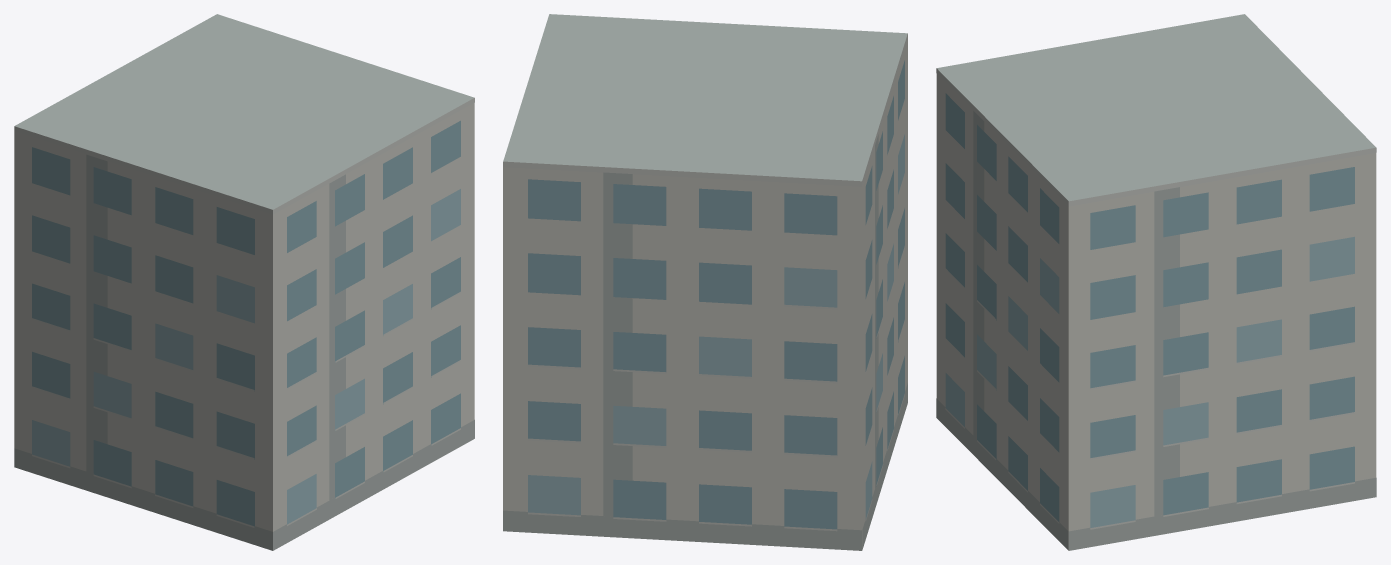
The model's file is survey-upis-32994729.glb.
3 views of the same model, side by side, from view 1: azimuth 30°, elevation 25°; view 2: azimuth 150°, elevation 25°; view 3: azimuth 270°, elevation 25° (orthographic). The views are drawn at different scales.
Parts seen in each view (by area): view 1: survey-upis-32994729.tmp; view 2: survey-upis-32994729.tmp; view 3: survey-upis-32994729.tmp.
Part boxes in pixels (x1,y1,x2,y2): survey-upis-32994729.tmp: (14, 14, 474, 550); survey-upis-32994729.tmp: (503, 14, 907, 550); survey-upis-32994729.tmp: (936, 14, 1376, 550).
Bounding box in the file's own units: 19.09 × 16.6 × 18.94.
